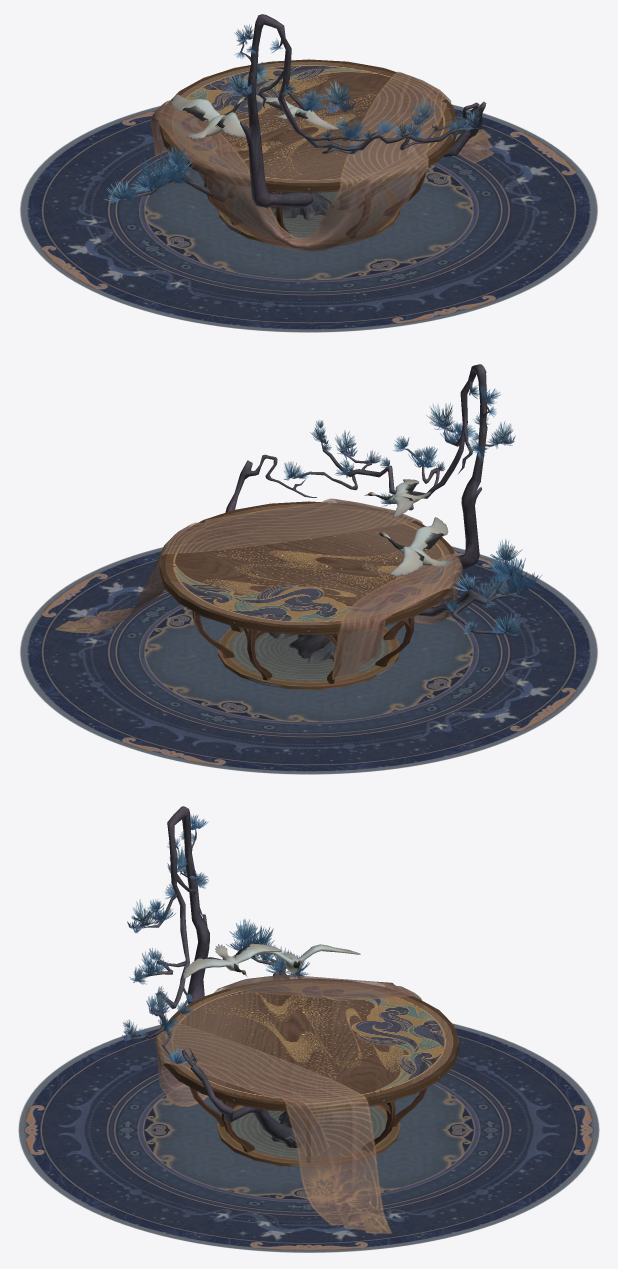
File: furniture-20785.glb
The picture shows the model from 3 angles, top to bottom: view 1: azimuth 30°, elevation 25°; view 2: azimuth 150°, elevation 25°; view 3: azimuth 270°, elevation 25°; orthographic projection.
Bounding box in the file's own units: 2.72 × 1.37 × 2.72.
Materials: 2 (2 with a texture image).
